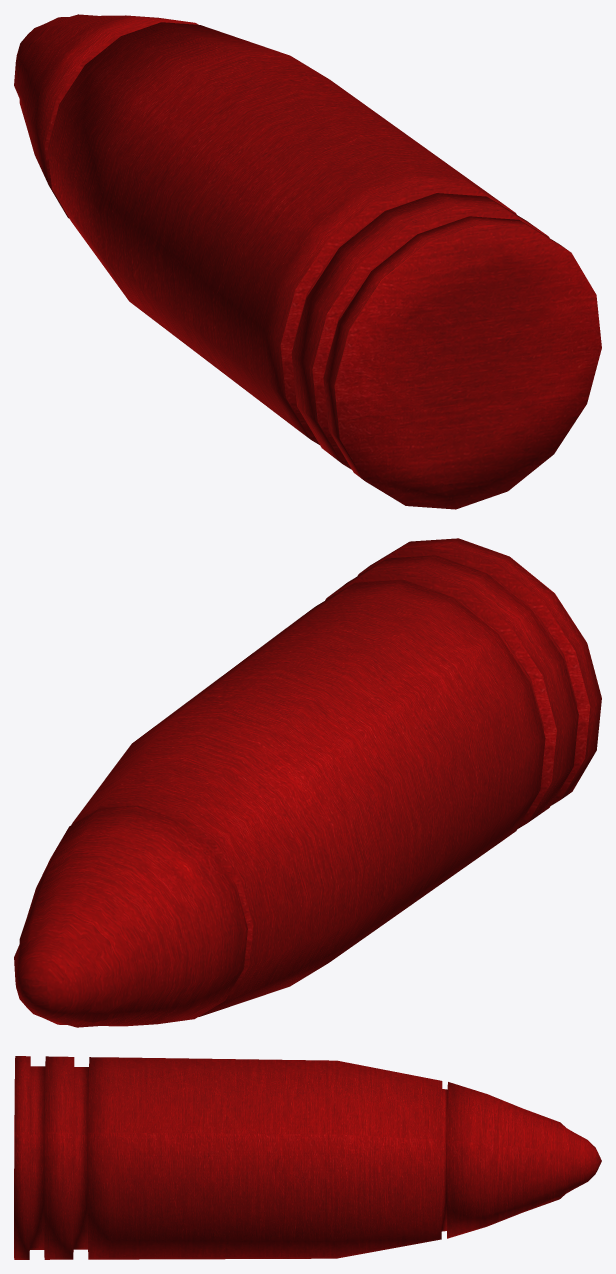
The model's file is TankBulletRed.glb.
3 renders of one model, top to bottom at view 1: azimuth 30°, elevation 25°; view 2: azimuth 150°, elevation 25°; view 3: azimuth 270°, elevation 25°, orthographic. The views are drawn at different scales.
Parts seen in each view (by area): view 1: Bullet; view 2: Bullet; view 3: Bullet.
Boxes of the visible parts, x1,y1,x2,y2 form: Bullet: (14, 14, 601, 509); Bullet: (14, 538, 601, 1027); Bullet: (14, 1056, 601, 1259).
Size of the model in its own units: 0.1828 by 0.1828 by 0.5243.
1 material, 1 textured.
